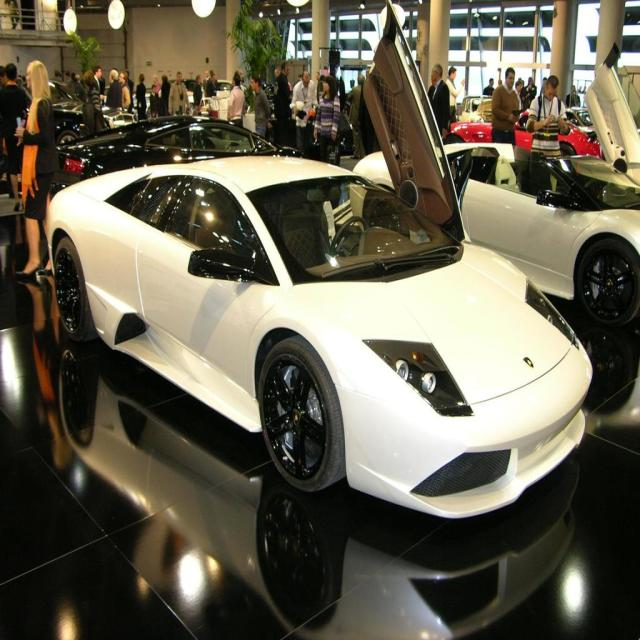car: (46, 0, 591, 518)
